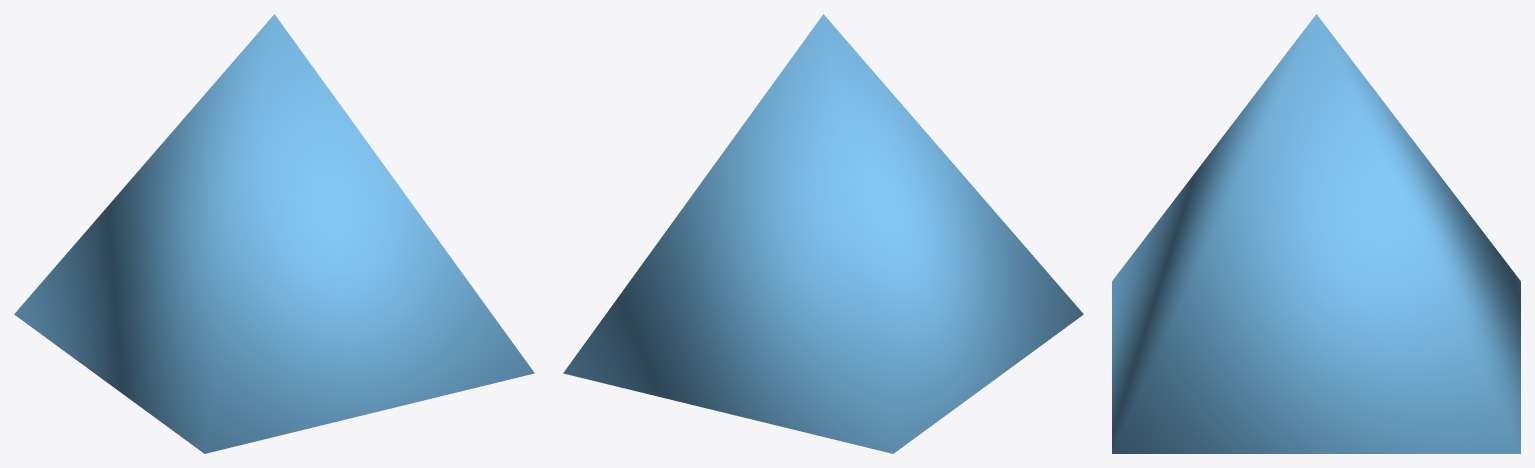
Rendered from animated_bouncer.glb.
The picture shows the model from 3 angles, left to right: view 1: azimuth 30°, elevation 25°; view 2: azimuth 150°, elevation 25°; view 3: azimuth 270°, elevation 25°; orthographic projection. The views are drawn at different scales.
Parts seen in each view (by area): view 1: AnimatedBouncer; view 2: AnimatedBouncer; view 3: AnimatedBouncer.
Boxes of the visible parts, x1,y1,x2,y2 form: AnimatedBouncer: [14, 14, 534, 453]; AnimatedBouncer: [563, 14, 1083, 453]; AnimatedBouncer: [1112, 14, 1520, 453].
Bounding box in the file's own units: 1.1 × 1.05 × 1.1.
